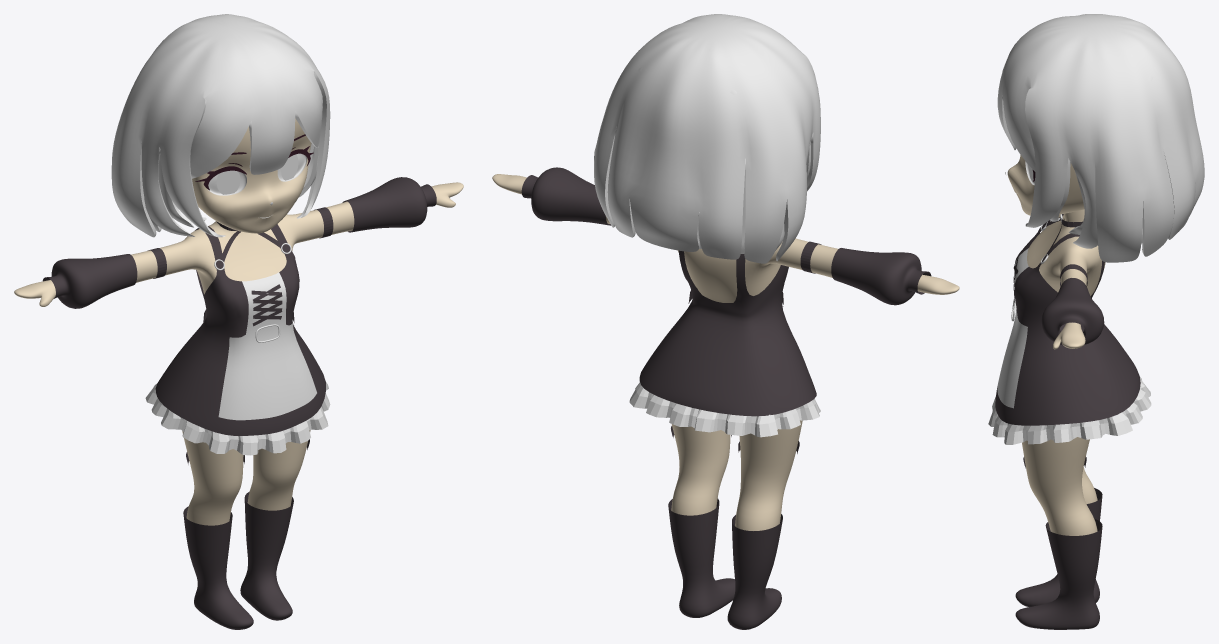
File: succubus.fbx
3 views of the same model, side by side, from view 1: azimuth 30°, elevation 25°; view 2: azimuth 150°, elevation 25°; view 3: azimuth 270°, elevation 25° (orthographic). The views are drawn at different scales.
Visible parts, largest first — view 1: succubus.hair, succubus.cloth.001, succubus.body, succubus.body.001, succubus.body.003, succubus.body.head, succubus.cloth.dress.frill, succubus.hair.middle, succubus.body.eyes, succubus.cloth.dress.lace, succubus.body.002; view 2: succubus.hair, succubus.cloth.001, succubus.body, succubus.body.001, succubus.body.003, succubus.cloth.dress.frill; view 3: succubus.hair, succubus.cloth.001, succubus.body, succubus.body.001, succubus.cloth.dress.frill, succubus.body.003, succubus.body.head, succubus.hair.middle.
Part boxes in pixels (bbox=[...]): succubus.hair: bbox=[111, 14, 330, 237]; succubus.cloth.001: bbox=[155, 224, 325, 435]; succubus.body: bbox=[14, 182, 463, 525]; succubus.body.001: bbox=[183, 491, 293, 629]; succubus.body.003: bbox=[42, 177, 436, 308]; succubus.body.head: bbox=[192, 118, 311, 233]; succubus.cloth.dress.frill: bbox=[145, 382, 330, 455]; succubus.hair.middle: bbox=[150, 46, 318, 231]; succubus.body.eyes: bbox=[216, 154, 298, 194]; succubus.cloth.dress.lace: bbox=[251, 284, 282, 326]; succubus.body.002: bbox=[147, 207, 333, 278]; succubus.hair: bbox=[594, 14, 820, 263]; succubus.cloth.001: bbox=[639, 250, 816, 416]; succubus.body: bbox=[492, 174, 959, 530]; succubus.body.001: bbox=[668, 498, 782, 629]; succubus.body.003: bbox=[521, 167, 931, 305]; succubus.cloth.dress.frill: bbox=[629, 382, 820, 437]; succubus.hair: bbox=[997, 14, 1204, 262]; succubus.cloth.001: bbox=[995, 220, 1140, 425]; succubus.body: bbox=[1022, 209, 1105, 535]; succubus.body.001: bbox=[1015, 488, 1102, 629]; succubus.cloth.dress.frill: bbox=[988, 377, 1151, 444]; succubus.body.003: bbox=[1041, 278, 1104, 344]; succubus.body.head: bbox=[1007, 155, 1084, 215]; succubus.hair.middle: bbox=[1050, 75, 1152, 243].
Size of the model in its own units: 79.98 by 98 by 32.59.
